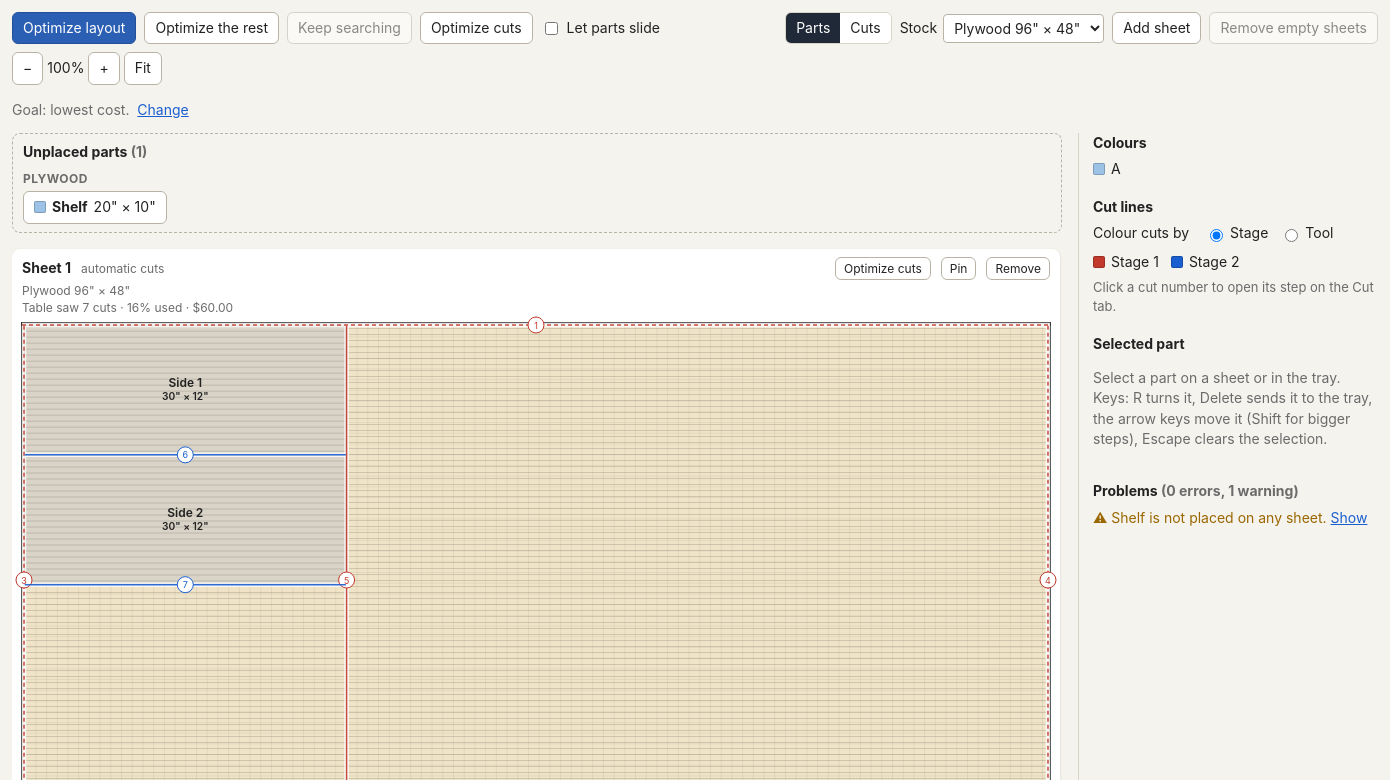
Scenario: LayoutTab › stops a search and uses the best plan so far
Click the button "Optimize layout". click: (74, 28)
box: [12, 12, 136, 44]
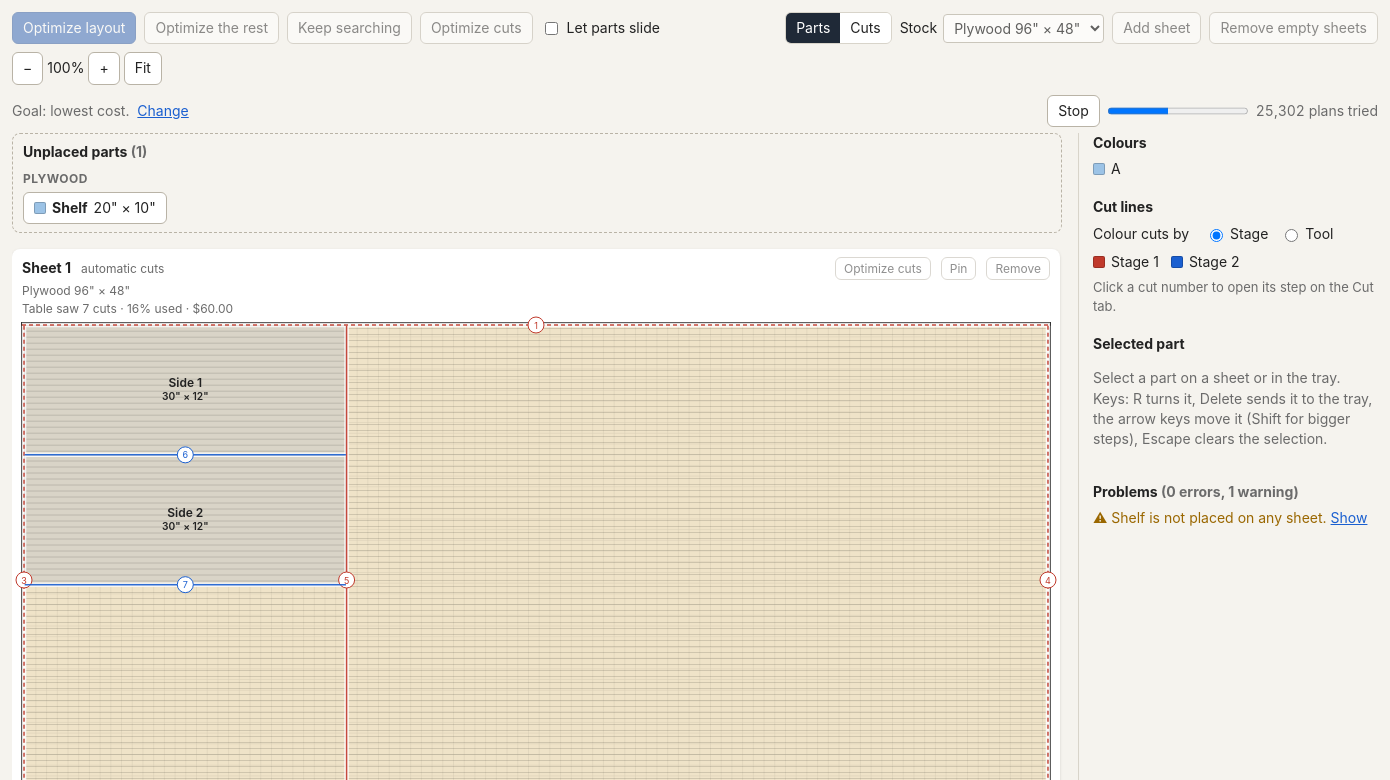
Click the button "Stop". click: (1074, 111)
box: [1047, 95, 1100, 127]
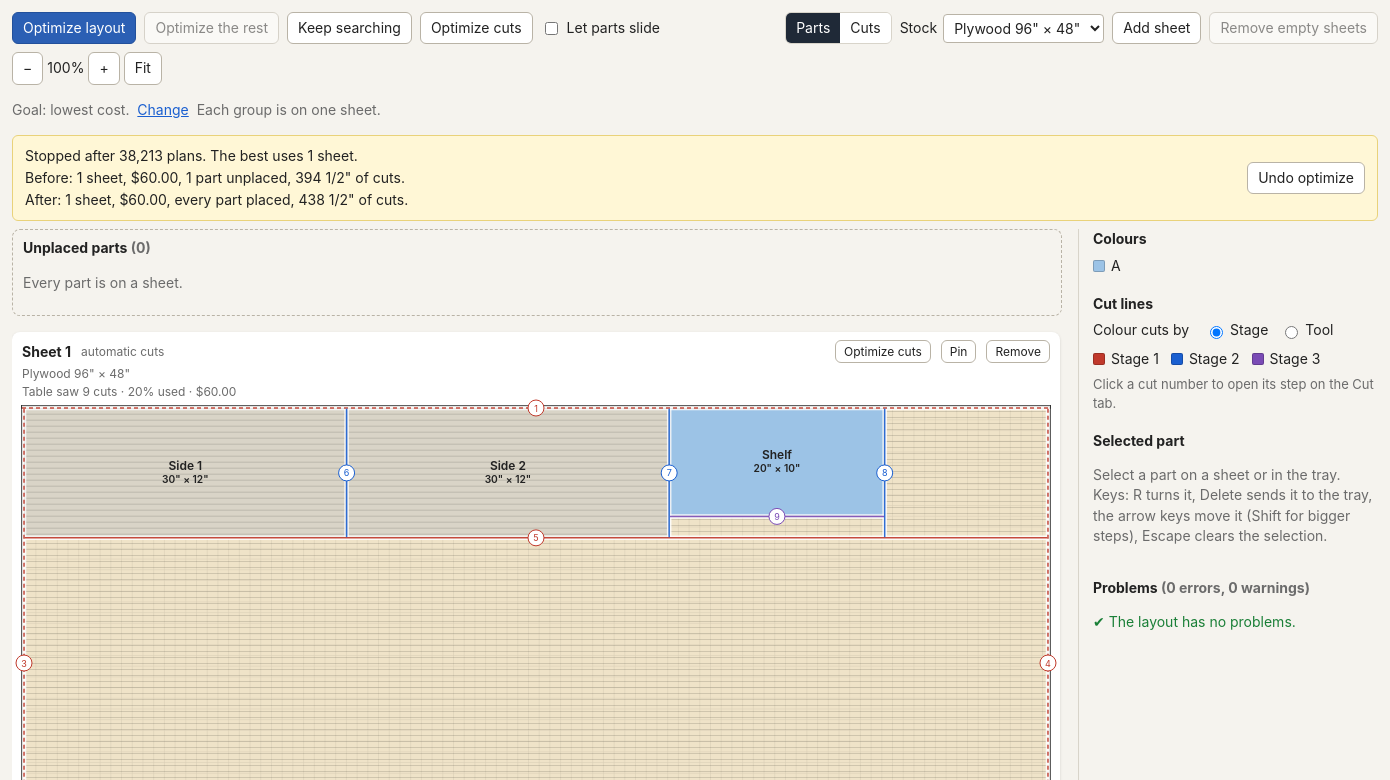
Expected: the message shows "Stopped after", [25, 147, 358, 164]
